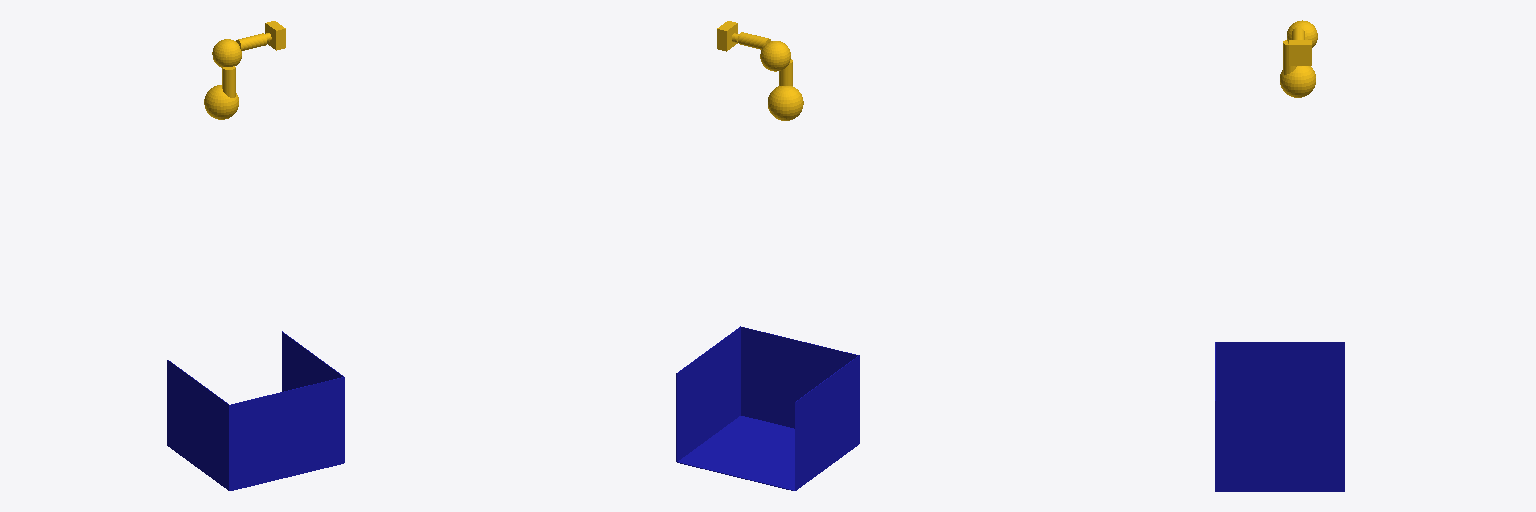
robot.urdf — fanuc_cell:
<?xml version="1.0" encoding="utf-8"?>
<!-- =================================================================================== -->
<!-- |    This document was autogenerated by xacro from ur5_robot.urdf.xacro           | -->
<!-- |    EDITING THIS FILE BY HAND IS NOT RECOMMENDED                                 | -->
<!-- =================================================================================== -->
<robot name="fanuc_cell">
  <!--robots pose-->
  <link name="world"/>
  
  <joint name="FANUC_m10ia_pose" type="fixed">
    <parent link="world"/>
    <child link="FANUC_m10ia_base_link"/>
    <origin rpy="0.0 0.0 0.0" xyz="0 0.0 5.0"/><!--ABB_1200_5_90 pedestal-->
  </joint>
  
  <joint name="FANUC_lrmate200id_pose" type="fixed">
    <parent link="world"/>
    <child link="FANUC_lrmate200id_base_link"/>
    <origin rpy="0.0 0.0 0.0" xyz="0 -5.0 5.0"/><!--ABB_1200_5_90 pedestal-->
  </joint>

  <joint name="curve_1_pose" type="fixed">
    <parent link="world"/>
    <child link="curve_1_base_link"/>
    <origin rpy="0.0 0.0 0.0" xyz="0 2.0 0.0"/><!--ABB_1200_5_90 pedestal-->
  </joint>
  <joint name="curve_2_pose" type="fixed">
    <parent link="world"/>
    <child link="curve_2_base_link"/>
    <origin rpy="0.0 0.0 0.0" xyz="0 -2.0 0.0"/><!--ABB_1200_5_90 pedestal-->
  </joint>


  <!--curve_1 part-->
  <link name="curve_1_base_link">
    <collision>
      <geometry>
        <mesh filename="model://curve_1/meshes/wood.stl" scale="0.001 0.001 0.001"/>
      </geometry>
    </collision>
    <visual name="visual">
      <geometry>
        <mesh filename="model://curve_1/meshes/wood.stl" scale="0.001 0.001 0.001"/>
      </geometry>
      <material name="orange">
        <color rgba=".04 .42 1 1"/>
      </material>
    </visual>
    <inertial>
      <origin rpy="0 0 0" xyz="0 0 .107 "/>
      <mass value="254.138"/>
      <inertia ixx="9.459" ixy="-.018" ixz="-.297" iyy="9.18" iyz=".003" izz="16.946"/>
    </inertial>
  </link>

  <!--curve_2 part-->
  <link name="curve_2_base_link">
    <collision>
      <geometry>
        <mesh filename="model://curve_2/meshes/generic_fan_blade.stl" scale="0.001 0.001 0.001"/>
      </geometry>
    </collision>
    <visual name="visual">
      <geometry>
        <mesh filename="model://curve_2/meshes/generic_fan_blade.stl" scale="0.001 0.001 0.001"/>
      </geometry>
      <material name="orange">
        <color rgba=".04 .42 1 1"/>
      </material>
    </visual>
    <inertial>
      <origin rpy="0 0 0" xyz="0 0 .107 "/>
      <mass value="254.138"/>
      <inertia ixx="9.459" ixy="-.018" ixz="-.297" iyy="9.18" iyz=".003" izz="16.946"/>
    </inertial>
  </link>

  <link name="Wall1">
    <visual>
      <geometry>
        <box size="0.01 1.7 1.3"/>
      </geometry>
      <material name="">
        <color rgba="0.1490196078431373 0.14901960784313725 0.72941176470588237 0.1"/>
      </material>
    </visual>
    <collision>
      <geometry>
        <box size="0.01 1.7 1.3"/>
      </geometry>
    </collision>
  </link>
  <joint name="Wall1_pose" type="fixed">
    <parent link="world"/>
    <child link="Wall1"/>
    <origin rpy="0.0 0.0 0" xyz="-0.405 -0.27 0.8"/>
  </joint>

  <link name="Wall2">
    <visual>
      <geometry>
        <box size="1.8 0.01 1.3"/>
      </geometry>
      <material name="">
        <color rgba="0.1490196078431373 0.14901960784313725 0.72941176470588237 0.1"/>
      </material>
    </visual>
    <collision>
      <geometry>
        <box size="1.8 0.01 1.3"/>
      </geometry>
    </collision>
  </link>
  <joint name="Wall2_pose" type="fixed">
    <parent link="world"/>
    <child link="Wall2"/>
    <origin rpy="0.0 0.0 0" xyz="0.5 -1.115 0.8"/>
  </joint>

  <link name="Wall3">
    <visual>
      <geometry>
        <box size="0.01 1.7 1.3"/>
      </geometry>
      <material name="">
        <color rgba="0.1490196078431373 0.14901960784313725 0.72941176470588237 0.1"/>
      </material>
    </visual>
    <collision>
      <geometry>
        <box size="0.01 1.7 1.3"/>
      </geometry>
    </collision>
  </link>
  <joint name="Wall3_pose" type="fixed">
    <parent link="world"/>
    <child link="Wall3"/>
    <origin rpy="0.0 0.0 0" xyz="1.405 -0.27 0.8"/>
  </joint>


  <!-- <link name="Wall4">
    <visual>
      <geometry>
        <box size="1.8 0.01 1.3"/>
      </geometry>
      <material name="">
        <color rgba="0.1490196078431373 0.14901960784313725 0.72941176470588237 0.1"/>
      </material>
    </visual>
    <collision>
      <geometry>
        <box size="1.8 0.01 1.3"/>
      </geometry>
    </collision>
  </link>
  <joint name="Wall4_pose" type="fixed">
    <parent link="world"/>
    <child link="Wall4"/>
    <origin rpy="0.0 0.0 0" xyz="0.5 0.585 0.8"/>
  </joint> -->


  <link name="Ground">
    <visual>
      <geometry>
        <box size="1.8 1.7 0.01"/>
      </geometry>
      <material name="">
        <color rgba="0.1490196078431373 0.14901960784313725 0.72941176470588237 0.1"/>
      </material>
    </visual>
    <collision>
      <geometry>
        <box size="1.8 1.7 0.01"/>
      </geometry>
    </collision>
  </link>
  <joint name="Ground_pose" type="fixed">
    <parent link="world"/>
    <child link="Ground"/>
    <origin rpy="0.0 0.0 0" xyz="0.5 -0.27 0.15"/>
  </joint>

  <!-- <link name="Ceiling">
    <visual>
      <geometry>
        <box size="1.8 1.7 0.01"/>
      </geometry>
      <material name="">
        <color rgba="0.1490196078431373 0.14901960784313725 0.72941176470588237 0.1"/>
      </material>
    </visual>
    <collision>
      <geometry>
        <box size="1.8 1.7 0.01"/>
      </geometry>
    </collision>
  </link>
  <joint name="Ceiling_pose" type="fixed">
    <parent link="world"/>
    <child link="Ceiling"/>
    <origin rpy="0.0 0.0 0" xyz="0.5 -0.27 1.45"/>
  </joint> -->

  <!-- FANUC m10ia part -->
  <link name="FANUC_m10ia_base_link">
    <visual>
      <origin rpy="0 0 0" xyz="0 0 0"/>
      <geometry>
        <mesh filename="model://FANUC_m10ia/meshes/m10ia/visual/base_link.stl"/>
      </geometry>
      <material name="">
        <color rgba="0.4 0.4 0.4 1.0"/>
      </material>
    </visual>
    <collision>
      <origin rpy="0 0 0" xyz="0 0 0"/>
      <geometry>
        <mesh filename="model://FANUC_m10ia/meshes/m10ia/collision/base_link.stl"/>
      </geometry>
    </collision>
  </link>
  <link name="FANUC_m10ia_link_1">
    <visual>
      <origin rpy="0 0 0" xyz="0.095 -0.035 0.01"/>
      <geometry>
        <!-- <mesh filename="model://FANUC_m10ia/meshes/m10ia/visual/link_1.stl"/> -->
        <sphere radius="0.24"/>
      </geometry>
      <material name="">
        <color rgba="0.96 0.76 0.13 1.0"/>
      </material>
    </visual>
    <collision>
      <origin rpy="0 0 0" xyz="0.095 -0.035 0.01"/>
      <geometry>
        <!-- <mesh filename="model://FANUC_m10ia/meshes/m10ia/visual/link_1.stl"/> -->
        <sphere radius="0.24"/>
      </geometry>
    </collision>
  </link>
  <link name="FANUC_m10ia_link_2">
    <visual>
      <origin rpy="0 0 0" xyz="0 -0.14 0.28"/>
      <geometry>
        <!-- <mesh filename="model://FANUC_m10ia/meshes/m10ia/visual/link_2.stl"/> -->
        <cylinder radius="0.09" length="0.58"/>
      </geometry>
      <material name="">
        <color rgba="0.96 0.76 0.13 1.0"/>
      </material>
    </visual>
    <collision>
      <origin rpy="0 0 0" xyz="0 -0.14 0.28"/>
      <geometry>
        <!-- <mesh filename="model://FANUC_m10ia/meshes/m10ia/collision/link_2.stl"/> -->
        <cylinder radius="0.09" length="0.58"/>
      </geometry>
    </collision>
  </link>
  <link name="FANUC_m10ia_link_3">
    <visual>
      <origin rpy="0 0 0" xyz="0.065 0.02 0.09"/>
      <geometry>
        <!-- <mesh filename="model://FANUC_m10ia/meshes/m10ia/visual/link_3.stl"/> -->
        <sphere radius="0.205"/>
      </geometry>
      <material name="">
        <color rgba="0.96 0.76 0.13 1.0"/>
      </material>
    </visual>
    <collision>
      <origin rpy="0 0 0" xyz="0 0 0"/>
      <geometry>
        <!-- <mesh filename="model://FANUC_m10ia/meshes/m10ia/collision/link_3.stl"/> -->
        <sphere radius="0.205"/>
      </geometry>
    </collision>
  </link>
  <link name="FANUC_m10ia_link_4">
    <visual>
      <origin rpy="0 1.57079632679 0" xyz="0.415 -0.03 0"/>
      <geometry>
        <!-- <mesh filename="model://FANUC_m10ia/meshes/m10ia/visual/link_4.stl"/> -->
        <cylinder radius="0.085" length="0.41"/>
      </geometry>
      <material name="">
        <color rgba="0.96 0.76 0.13 0.0"/> <!-- color not changing??? -->
      </material>
    </visual>
    <collision>
      <origin rpy="0 1.57079632679 0" xyz="0.415 -0.03 0"/>
      <geometry>
        <!-- <mesh filename="model://FANUC_m10ia/meshes/m10ia/collision/link_4.stl"/> -->
        <cylinder radius="0.085" length="0.41"/>
      </geometry>
    </collision>
  </link>
  <link name="FANUC_m10ia_link_5">
    <visual>
      <origin rpy="0 1.57079632679 0" xyz="0.0325 0 0"/>
      <geometry>
        <!-- <mesh filename="model://FANUC_m10ia/meshes/m10ia/visual/link_5.stl"/> -->
        <cylinder radius="0.06" length="0.09"/>
      </geometry>
      <material name="">
        <color rgba="0.96 0.76 0.13 1.0"/>
      </material>
    </visual>
    <collision>
      <origin rpy="0 1.57079632679 0" xyz="0.0325 0 0"/>
      <geometry>
        <!-- <mesh filename="model://FANUC_m10ia/meshes/m10ia/collision/link_5.stl"/> -->
        <cylinder radius="0.06" length="0.09"/>
      </geometry>
    </collision>
  </link>
  <link name="FANUC_m10ia_link_6">
    <visual>
      <origin rpy="0 0 0" xyz="0 0 0"/>
      <geometry>
        <mesh filename="model://FANUC_m10ia/meshes/m10ia/visual/link_6.stl"/>
      </geometry>
      <material name="">
        <color rgba="0.15 0.15 0.15 1.0"/>
      </material>
    </visual>
    <collision>
      <origin rpy="0 0 0" xyz="0 0 0"/>
      <geometry>
        <mesh filename="model://FANUC_m10ia/meshes/m10ia/collision/link_6.stl"/>
      </geometry>
    </collision>
  </link>
  <!-- <link name="FANUC_m10ia_tool">
    <visual name="visual">
      <origin rpy="0 0 0" xyz="0 0 0"/>
      <geometry>
        <mesh filename="model://paintgun/meshes/paint_gun.stl" scale="0.001 0.001 0.001"/>
      </geometry>
      <material name="">
        <color rgba="0.96 0.76 0.13 1.0"/>
      </material>
    </visual>
    <collision>
      <origin rpy="0 0 0" xyz="0 0 0"/>
      <geometry>
        <mesh filename="model://paintgun/meshes/paint_gun.stl" scale="0.001 0.001 0.001"/>
      </geometry>
    </collision>
  </link> -->
  <link name="FANUC_m10ia_dcstool">
    <visual name="visual">
      <origin rpy="0 0 0" xyz="0 0 0.075"/>
      <geometry>
        <!-- <mesh filename="model://paintgun/meshes/paint_gun.stl" scale="0.001 0.001 0.001"/> -->
        <box size="0.3 0.3 0.15"/>
      </geometry>
      <material name="">
        <color rgba="0.96 0.76 0.13 1.0"/>
      </material>
    </visual>
    <collision>
      <origin rpy="0 0 0" xyz="0 0 0.075"/>
      <geometry>
        <!-- <mesh filename="model://paintgun/meshes/paint_gun.stl" scale="0.001 0.001 0.001"/> -->
        <box size="0.3 0.3 0.15"/>
      </geometry>
    </collision>
  </link>

  <!-- joints: main serial chain -->
  <joint name="FANUC_m10ia_joint_1" type="revolute">
    <origin rpy="0 0 0" xyz="0 0 0.450"/>
    <parent link="FANUC_m10ia_base_link"/>
    <child link="FANUC_m10ia_link_1"/>
    <axis xyz="0 0 1"/>
    <limit effort="0" lower="-3.14" upper="3.14" velocity="3.67"/>
  </joint>
  <joint name="FANUC_m10ia_joint_2" type="revolute">
    <origin rpy="0 0 0" xyz="0.150 0 0"/>
    <parent link="FANUC_m10ia_link_1"/>
    <child link="FANUC_m10ia_link_2"/>
    <axis xyz="0 1 0"/>
    <limit effort="0" lower="-1.57" upper="2.79" velocity="3.32"/>
  </joint>
  <joint name="FANUC_m10ia_joint_3" type="revolute">
    <origin rpy="0 0 0" xyz="0 0 0.600"/>
    <parent link="FANUC_m10ia_link_2"/>
    <child link="FANUC_m10ia_link_3"/>
    <axis xyz="0 -1 0"/>
    <limit effort="0" lower="-3.14" upper="4.61" velocity="3.67"/>
  </joint>
  <joint name="FANUC_m10ia_joint_4" type="revolute">
    <origin rpy="0 0 0" xyz="0 0 0.200"/>
    <parent link="FANUC_m10ia_link_3"/>
    <child link="FANUC_m10ia_link_4"/>
    <axis xyz="-1 0 0"/>
    <limit effort="0" lower="-3.31" upper="3.31" velocity="6.98"/>
  </joint>
  <joint name="FANUC_m10ia_joint_5" type="revolute">
    <origin rpy="0 0 0" xyz="0.640 0 0"/>
    <parent link="FANUC_m10ia_link_4"/>
    <child link="FANUC_m10ia_link_5"/>
    <axis xyz="0 -1 0"/>
    <limit effort="0" lower="-3.31" upper="3.31" velocity="6.98"/>
  </joint>
  <joint name="FANUC_m10ia_joint_6" type="revolute">
    <origin rpy="0 0 0" xyz="0.100 0 0"/>
    <parent link="FANUC_m10ia_link_5"/>
    <child link="FANUC_m10ia_link_6"/>
    <axis xyz="-1 0 0"/>
    <limit effort="0" lower="-6.28" upper="6.28" velocity="10.47"/>
  </joint>
  <!-- <joint name="FANUC_m10ia_joint_6-tool0" type="fixed">
    <parent link="FANUC_m10ia_link_6"/>
    <child link="FANUC_m10ia_tool"/>
    <origin rpy="0 1.57079632679 0" xyz="0 0 0"/>
  </joint> -->
  <joint name="FANUC_m10ia_joint_6_dcs" type="fixed">
    <parent link="FANUC_m10ia_link_6"/>
    <child link="FANUC_m10ia_dcstool"/>
    <origin rpy="0 1.57079632679 0" xyz="0 0 0"/>
  </joint>

  <!-- FANUC lrmate200id part -->
  <link name="FANUC_lrmate200id_base_link">
    <visual>
      <origin rpy="0 0 0" xyz="0 0 0"/>
      <geometry>
        <mesh filename="model://FANUC_lrmate200id/meshes/lrmate200id/visual/base_link.stl"/>
      </geometry>
      <material name="">
        <color rgba="0.2784313725490196 0.2784313725490196 0.2784313725490196 1.0"/>
      </material>
    </visual>
    <collision>
      <origin rpy="0 0 0" xyz="0 0 0"/>
      <geometry>
        <mesh filename="model://FANUC_lrmate200id/meshes/lrmate200id/collision/base_link.stl"/>
      </geometry>
    </collision>
  </link>
  <link name="FANUC_lrmate200id_link_1">
    <visual>
      <origin rpy="0 0 0" xyz="0 0 0"/>
      <geometry>
        <mesh filename="model://FANUC_lrmate200id/meshes/lrmate200id/visual/link_1.stl"/>
      </geometry>
      <material name="">
        <color rgba="0.96 0.76 0.13 1.0"/>
      </material>
    </visual>
    <collision>
      <origin rpy="0 0 0" xyz="0 0 0"/>
      <geometry>
        <mesh filename="model://FANUC_lrmate200id/meshes/lrmate200id/collision/link_1.stl"/>
      </geometry>
    </collision>
  </link>
  <link name="FANUC_lrmate200id_link_2">
    <visual>
      <origin rpy="0 0 0" xyz="0 0 0"/>
      <geometry>
        <mesh filename="model://FANUC_lrmate200id/meshes/lrmate200id/visual/link_2.stl"/>
      </geometry>
      <material name="">
        <color rgba="0.96 0.76 0.13 1.0"/>
      </material>
    </visual>
    <collision>
      <origin rpy="0 0 0" xyz="0 0 0"/>
      <geometry>
        <mesh filename="model://FANUC_lrmate200id/meshes/lrmate200id/collision/link_2.stl"/>
      </geometry>
    </collision>
  </link>
  <link name="FANUC_lrmate200id_link_3">
    <visual>
      <origin rpy="0 0 0" xyz="0 0 0"/>
      <geometry>
        <mesh filename="model://FANUC_lrmate200id/meshes/lrmate200id/visual/link_3.stl"/>
      </geometry>
      <material name="">
        <color rgba="0.96 0.76 0.13 1.0"/>
      </material>
    </visual>
    <collision>
      <origin rpy="0 0 0" xyz="0 0 0"/>
      <geometry>
        <mesh filename="model://FANUC_lrmate200id/meshes/lrmate200id/collision/link_3.stl"/>
      </geometry>
    </collision>
  </link>
  <link name="FANUC_lrmate200id_link_4">
    <visual>
      <origin rpy="0 0 0" xyz="0 0 0"/>
      <geometry>
        <mesh filename="model://FANUC_lrmate200id/meshes/lrmate200id/visual/link_4.stl"/>
      </geometry>
      <material name="">
        <color rgba="0.96 0.76 0.13 1.0"/>
      </material>
    </visual>
    <collision>
      <origin rpy="0 0 0" xyz="0 0 0"/>
      <geometry>
        <mesh filename="model://FANUC_lrmate200id/meshes/lrmate200id/collision/link_4.stl"/>
      </geometry>
    </collision>
  </link>
  <link name="FANUC_lrmate200id_link_5">
    <visual>
      <origin rpy="0 0 0" xyz="0 0 0"/>
      <geometry>
        <mesh filename="model://FANUC_lrmate200id/meshes/lrmate200id/visual/link_5.stl"/>
      </geometry>
      <material name="">
        <color rgba="0.96 0.76 0.13 1.0"/>
      </material>
    </visual>
    <collision>
      <origin rpy="0 0 0" xyz="0 0 0"/>
      <geometry>
        <mesh filename="model://FANUC_lrmate200id/meshes/lrmate200id/collision/link_5.stl"/>
      </geometry>
    </collision>
  </link>
  <link name="FANUC_lrmate200id_link_6">
    <visual>
      <origin rpy="0 0 0" xyz="0 0 0"/>
      <geometry>
        <mesh filename="model://FANUC_lrmate200id/meshes/lrmate200id/visual/link_6.stl"/>
      </geometry>
      <material name="">
        <color rgba="0.15 0.15 0.15 1.0"/>
      </material>
    </visual>
    <collision>
      <origin rpy="0 0 0" xyz="0 0 0"/>
      <geometry>
        <mesh filename="model://FANUC_lrmate200id/meshes/lrmate200id/collision/link_6.stl"/>
      </geometry>
    </collision>
  </link>
  <!-- joints: main serial chain -->
  <joint name="FANUC_lrmate200id_joint_1" type="revolute">
    <origin rpy="0 0 0" xyz="0 0 0.330"/>
    <parent link="FANUC_lrmate200id_base_link"/>
    <child link="FANUC_lrmate200id_link_1"/>
    <axis xyz="0 0 1"/>
    <limit effort="0" lower="-2.9670597283903604" upper="2.9670597283903604" velocity="7.853981633974483"/>
  </joint>
  <joint name="FANUC_lrmate200id_joint_2" type="revolute">
    <origin rpy="0 0 0" xyz="0.050 0 0"/>
    <parent link="FANUC_lrmate200id_link_1"/>
    <child link="FANUC_lrmate200id_link_2"/>
    <axis xyz="0 1 0"/>
    <limit effort="0" lower="-1.7453292519943295" upper="2.530727415391778" velocity="6.632251157578453"/>
  </joint>
  <joint name="FANUC_lrmate200id_joint_3" type="revolute">
    <origin rpy="0 0 0" xyz="0 0 0.330"/>
    <parent link="FANUC_lrmate200id_link_2"/>
    <child link="FANUC_lrmate200id_link_3"/>
    <axis xyz="0 -1 0"/>
    <limit effort="0" lower="-1.2217304763960306" upper="3.5779249665883754" velocity="9.075712110370514"/>
  </joint>
  <joint name="FANUC_lrmate200id_joint_4" type="revolute">
    <origin rpy="0 0 0" xyz="0 0 0.035"/>
    <parent link="FANUC_lrmate200id_link_3"/>
    <child link="FANUC_lrmate200id_link_4"/>
    <axis xyz="-1 0 0"/>
    <limit effort="0" lower="-3.3161255787892263" upper="3.3161255787892263" velocity="9.599310885968812"/>
  </joint>
  <joint name="FANUC_lrmate200id_joint_5" type="revolute">
    <origin rpy="0 0 0" xyz="0.335 0 0"/>
    <parent link="FANUC_lrmate200id_link_4"/>
    <child link="FANUC_lrmate200id_link_5"/>
    <axis xyz="0 -1 0"/>
    <limit effort="0" lower="-2.181661564992912" upper="2.181661564992912" velocity="9.512044423369096"/>
  </joint>
  <joint name="FANUC_lrmate200id_joint_6" type="revolute">
    <origin rpy="0 0 0" xyz="0.080 0 0"/>
    <parent link="FANUC_lrmate200id_link_5"/>
    <child link="FANUC_lrmate200id_link_6"/>
    <axis xyz="-1 0 0"/>
    <limit effort="0" lower="-6.283185307179586" upper="6.283185307179586" velocity="17.453292519943297"/>
  </joint>


</robot>

--- Facts derived from the render (not from the file) ---
Views: 3 orthographic renders of the robot side by side, from view 1: azimuth 30°, elevation 25°; view 2: azimuth 150°, elevation 25°; view 3: azimuth 270°, elevation 25°.
Model fanuc_cell with 22 links and 21 joints (12 revolute, 9 fixed), rooted at world, posed all joints at 0.
Visible links, largest first — view 1: Wall2, Wall1, Wall3, FANUC_m10ia_link_1, FANUC_m10ia_link_3; view 2: Wall2, Wall1, Wall3, Ground, FANUC_m10ia_link_1, FANUC_m10ia_link_3; view 3: Wall3, Wall1, FANUC_m10ia_link_1, FANUC_m10ia_dcstool.
Link boxes in pixels (x1,y1,x2,y2): Wall2: [230, 377, 343, 490]; Wall1: [167, 360, 229, 490]; Wall3: [282, 331, 344, 462]; FANUC_m10ia_link_1: [204, 85, 238, 119]; FANUC_m10ia_link_3: [212, 39, 241, 67]; Wall2: [741, 327, 858, 428]; Wall1: [795, 355, 859, 490]; Wall3: [676, 326, 740, 461]; Ground: [677, 416, 794, 490]; FANUC_m10ia_link_1: [768, 86, 803, 120]; FANUC_m10ia_link_3: [760, 41, 790, 71]; Wall3: [1215, 401, 1344, 490]; Wall1: [1216, 342, 1344, 400]; FANUC_m10ia_link_1: [1280, 66, 1315, 97]; FANUC_m10ia_dcstool: [1289, 40, 1311, 65].
Bounding box of the posed robot: 1.82 × 1.7 × 6.25 m (x, y, z).
0 mesh visuals loaded from 11 distinct referenced files (none loaded); not drawn: 11 (reference not matched to a file when rendering).